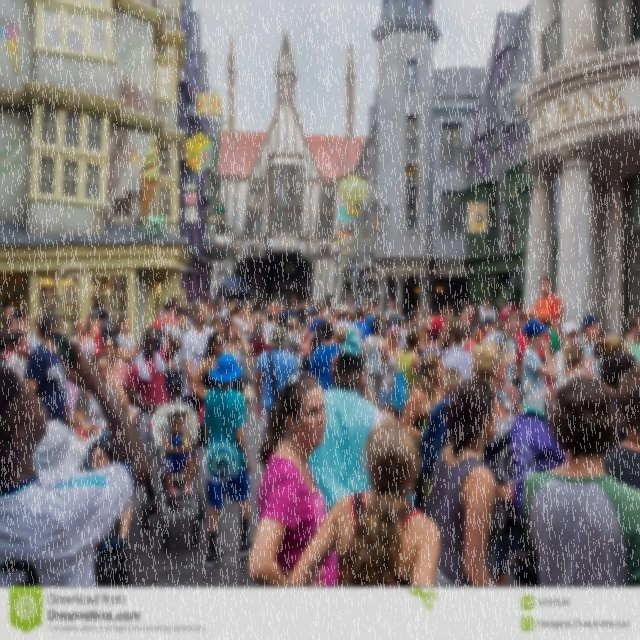pessoa: (0, 331, 152, 588), (286, 416, 442, 588), (522, 374, 640, 588), (246, 370, 338, 587), (429, 378, 506, 587), (306, 340, 388, 520), (471, 340, 525, 583), (202, 351, 254, 568), (125, 326, 184, 514), (417, 366, 464, 518), (254, 326, 300, 444), (23, 312, 68, 427), (601, 364, 640, 494), (90, 446, 134, 556), (74, 352, 130, 437), (548, 320, 594, 414), (179, 299, 217, 412), (514, 304, 554, 404), (188, 331, 227, 428), (521, 318, 557, 420), (157, 408, 195, 498), (492, 303, 522, 414), (160, 306, 193, 404), (331, 325, 368, 400), (377, 322, 403, 418), (438, 314, 475, 381), (222, 319, 253, 396), (308, 321, 341, 392), (232, 301, 260, 384), (360, 320, 386, 408), (44, 420, 82, 478), (575, 312, 606, 382), (418, 314, 446, 385), (534, 274, 562, 340), (155, 310, 175, 402), (394, 328, 420, 398), (101, 335, 130, 395), (115, 313, 145, 370), (554, 338, 587, 389), (308, 302, 328, 382), (331, 303, 365, 348), (284, 316, 317, 358), (248, 300, 266, 376), (599, 336, 634, 374), (536, 308, 561, 361), (64, 359, 82, 431), (68, 318, 96, 362), (6, 331, 30, 382), (480, 314, 508, 352), (624, 309, 640, 368), (85, 308, 104, 357), (298, 310, 312, 375), (349, 308, 372, 347), (460, 310, 484, 346), (274, 298, 298, 332), (460, 320, 480, 358), (152, 300, 176, 330), (416, 317, 434, 357), (260, 310, 276, 352), (28, 316, 43, 356), (94, 309, 109, 348), (386, 300, 404, 330), (295, 298, 310, 334), (395, 314, 410, 349), (94, 299, 114, 325), (479, 296, 497, 324), (242, 303, 252, 347), (477, 296, 492, 322), (404, 308, 420, 331), (202, 294, 212, 328), (373, 312, 386, 338), (365, 302, 377, 328), (18, 310, 30, 334), (211, 314, 225, 334), (220, 298, 230, 326), (215, 294, 229, 314), (326, 306, 339, 326), (383, 300, 394, 322), (424, 304, 444, 316), (1, 331, 10, 357), (469, 300, 477, 328), (170, 295, 180, 316), (6, 316, 19, 332), (320, 303, 330, 323), (4, 306, 17, 321), (415, 303, 424, 323), (444, 304, 456, 318), (462, 298, 472, 314), (229, 298, 237, 318), (248, 298, 256, 316), (306, 300, 312, 324), (208, 300, 214, 321), (211, 300, 220, 314), (310, 298, 318, 312), (266, 300, 278, 309), (364, 306, 371, 318), (290, 296, 296, 310), (278, 300, 286, 310), (346, 300, 354, 310), (305, 312, 313, 322), (376, 300, 381, 312), (328, 300, 334, 308), (362, 301, 368, 307), (304, 300, 308, 309), (296, 302, 300, 310), (262, 307, 266, 315), (260, 299, 264, 304)
